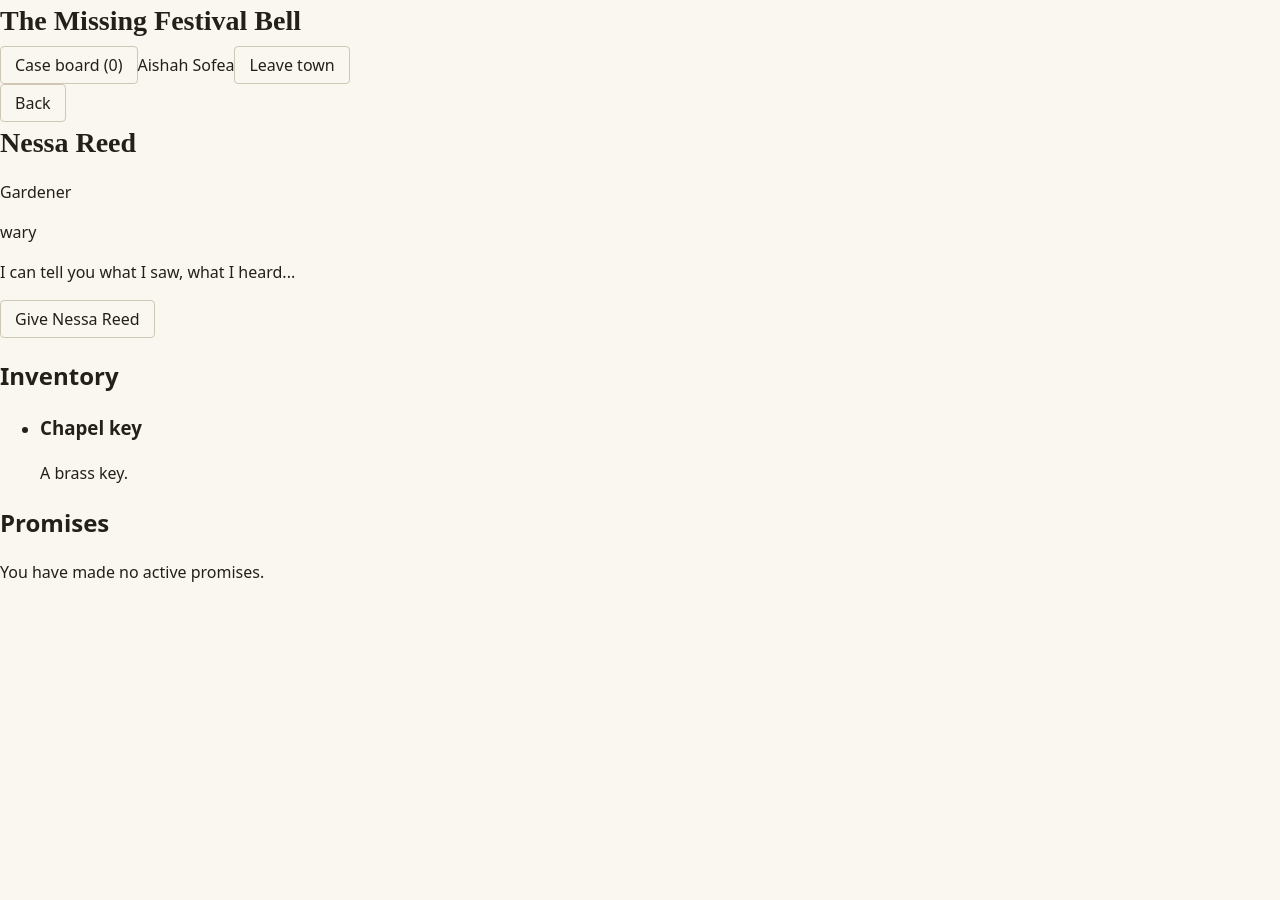
Scenario: Encounter — Give picker and custody-change confirmation (P4-20 acceptance 1) › lists held items only and warns a promise may be affected before transferring custody
Click the button "Give Nessa Reed". click: [77, 319]
box: 0,300 -> 155,338
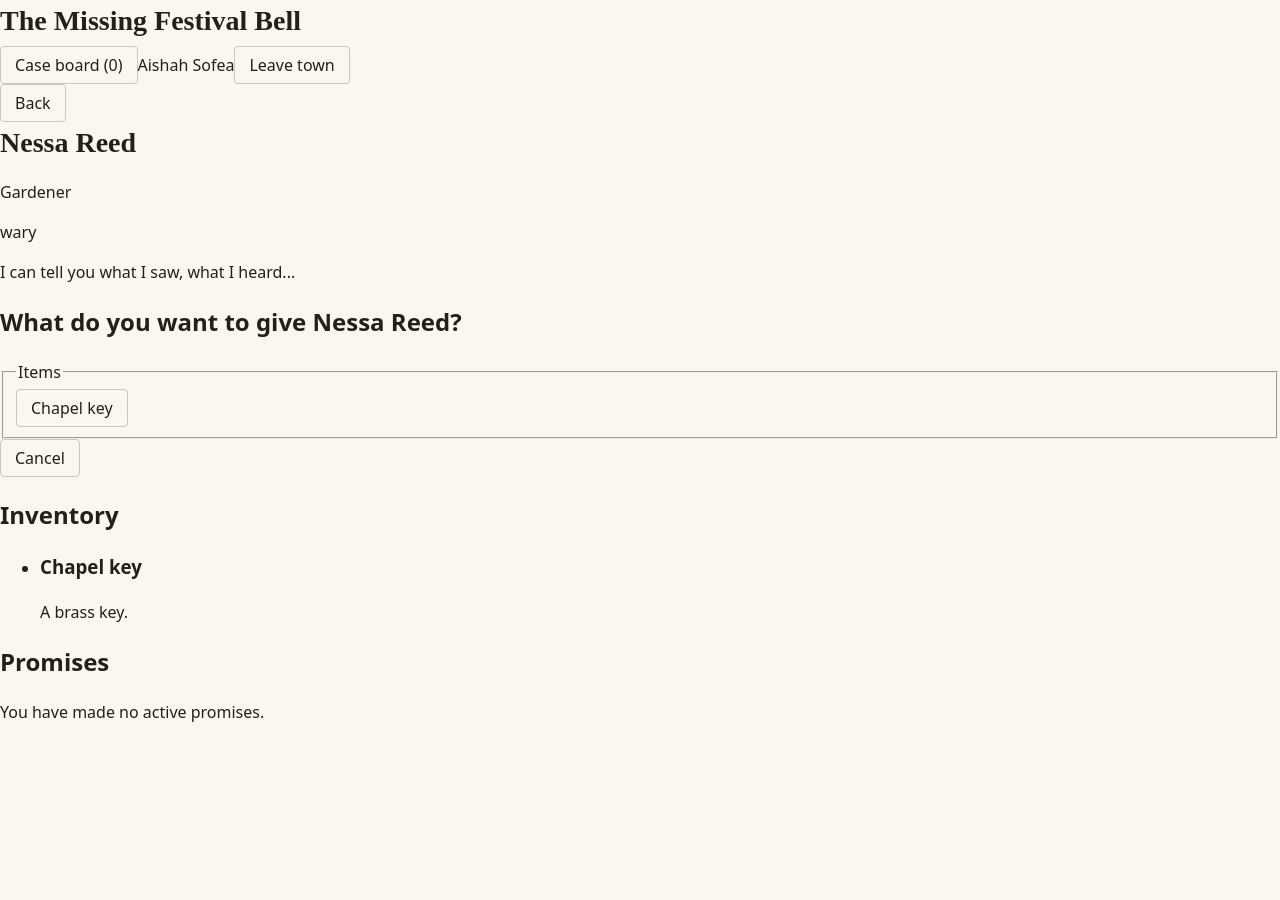
Click the button "Chapel key". click: [72, 408]
box: 16,389 -> 128,427
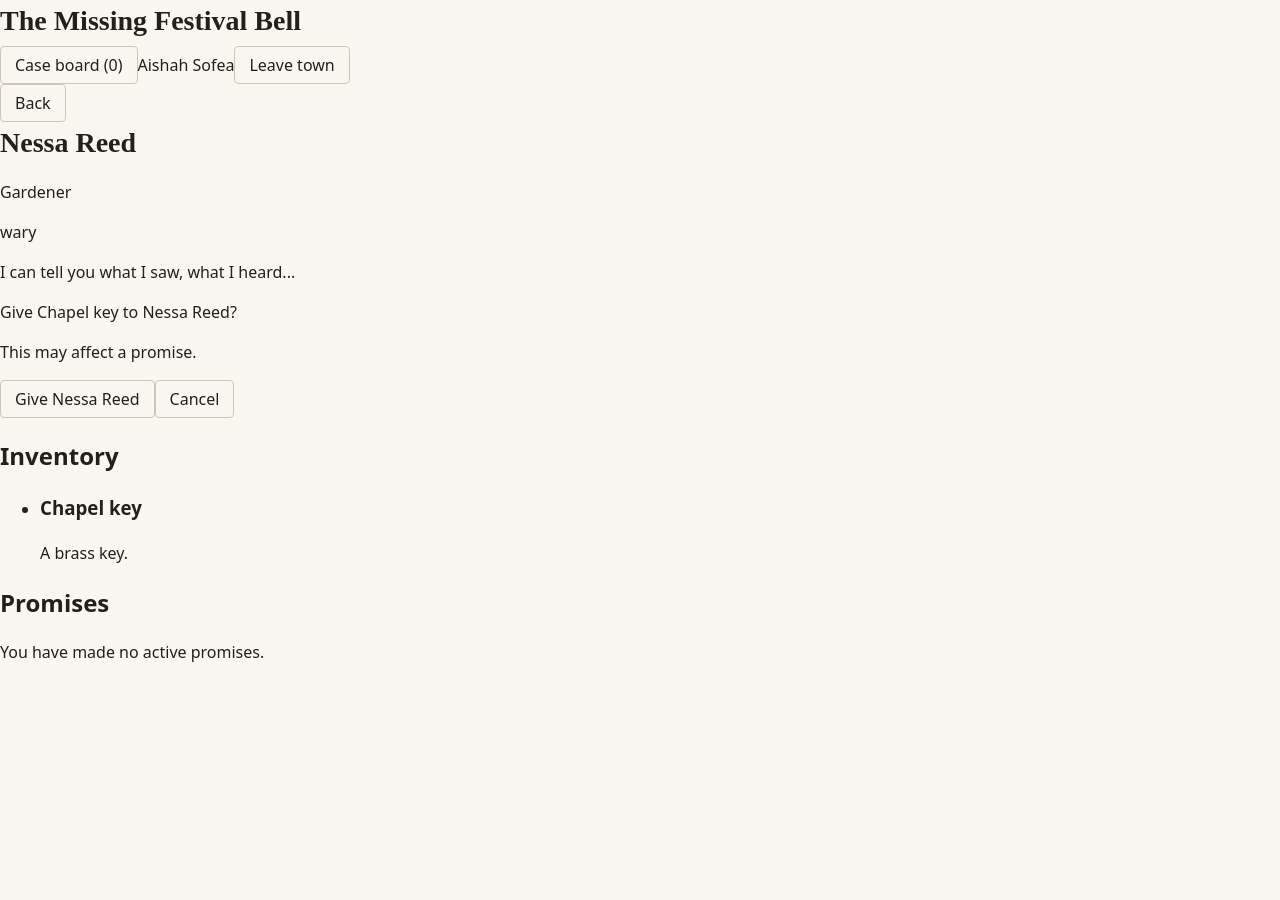
Check: the dialog named "Give this?" shows "This may affect a promise.", box 0,341 -> 197,363
Click the button "Give Nessa Reed". click: [77, 399]
box: 0,380 -> 155,418
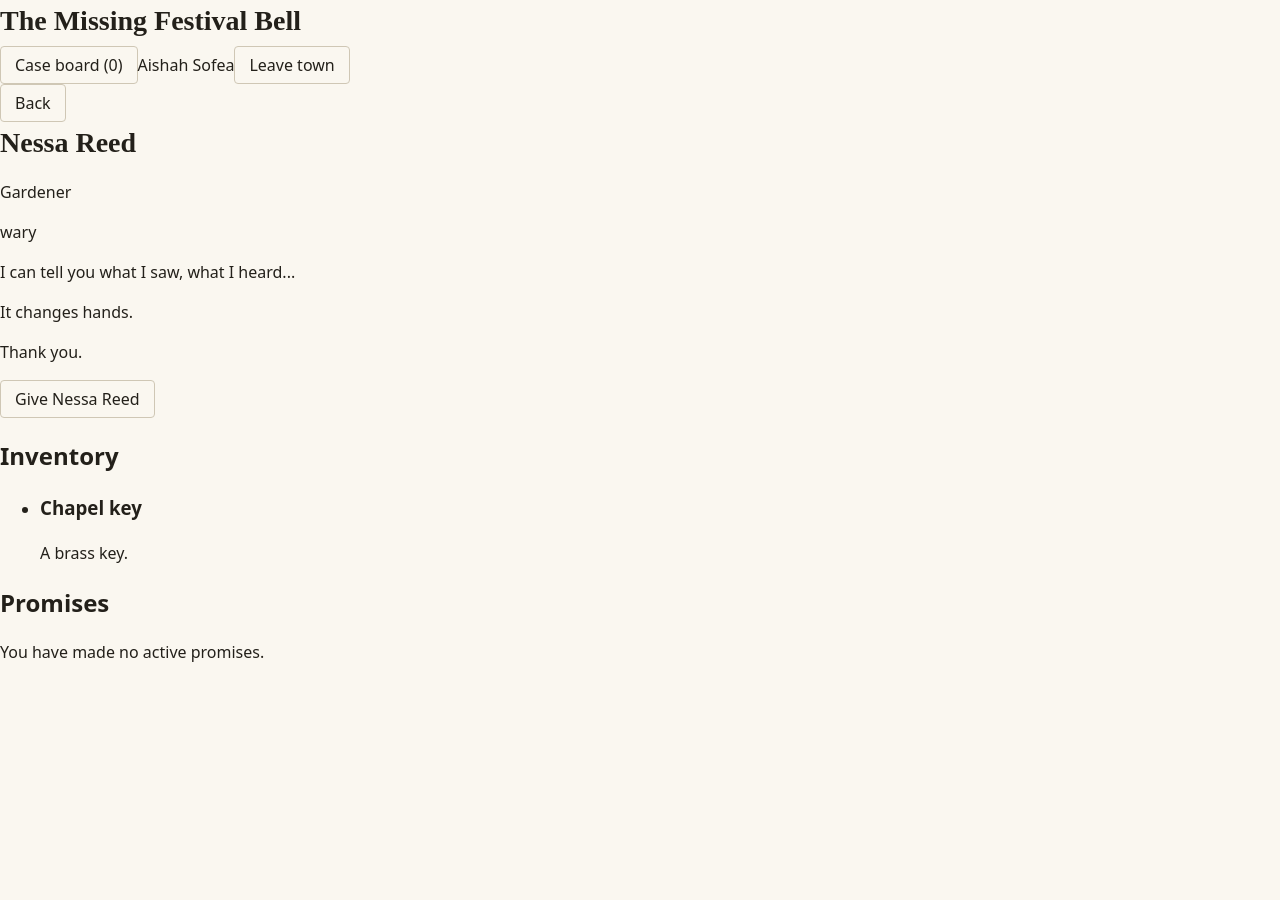
Check: the text "Thank you." is shown, box 0,341 -> 82,363
